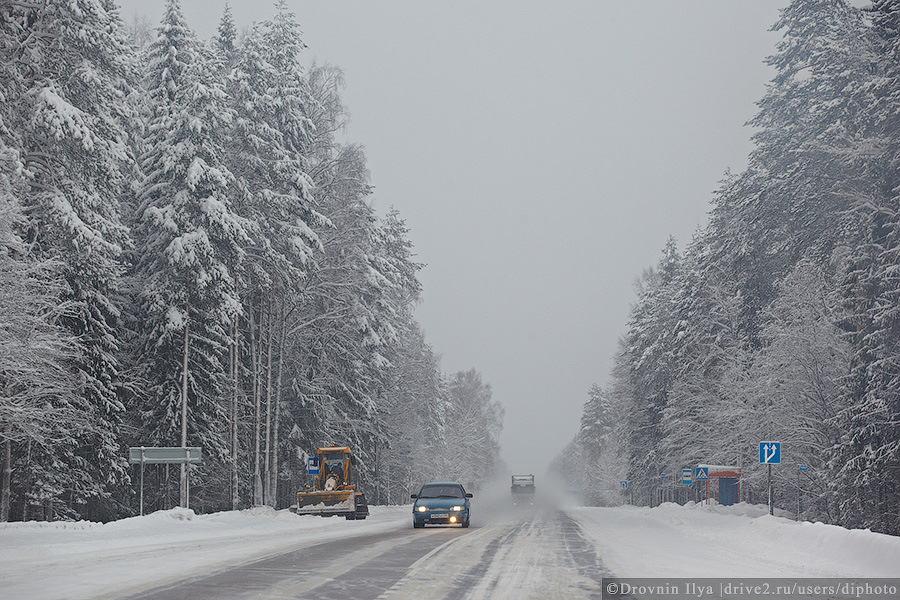sign: (758, 440, 782, 465), (307, 456, 321, 475), (694, 466, 710, 482), (681, 467, 694, 485), (619, 480, 629, 490), (660, 471, 667, 480)
